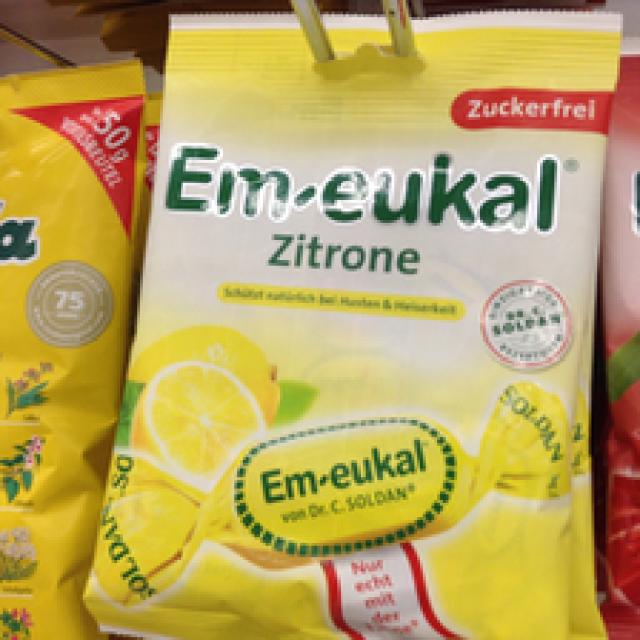groceries: (120, 14, 606, 623), (0, 48, 169, 623)
